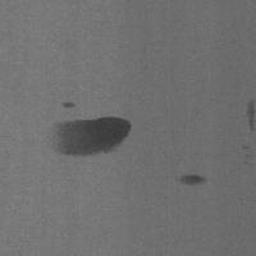Oil spot: (47, 114, 133, 157), (174, 173, 209, 188), (59, 100, 78, 109)
